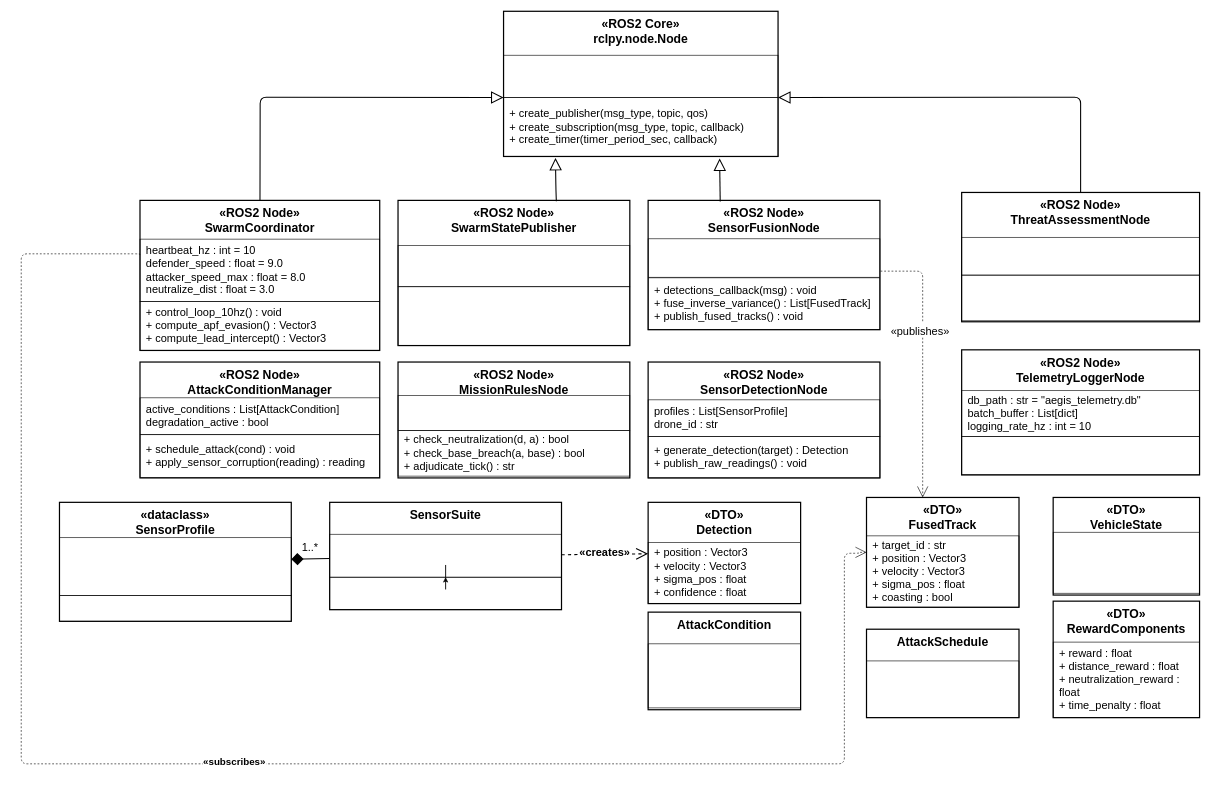
The diagram is 1211 pixels wide and 786 high, and some of its shapes have lost their labels. Each missing label, with the centre of its shape:
+ compute_threat_score(track) : float + update_defender_assignments() : void: (1080,297)
+ drone_id : str + position : Vector3 + velocity : Vector3 + heading : float: (1126,562)
+ in_range(distance : float) : bool: (175,608)
+ log_timestep(step_data) : void + flush_buffer_to_sqlite() : void: (1080,455)
+ name : str + max_range : float + fov_deg : float + sigma_pos : float: (175,566)
+ observe(target : Vector3) : List[Detection]: (445,593)
+ position_callback(msg, drone_id) : void + aggregate_and_publish() : void: (513,315)
+ scenario_name : str + conditions : List[AttackCondition]: (942,689)
+ type : str + intensity : float + start_time : float + duration : float: (724,675)
context : rclpy.Context handle : PyCapsule: (640,76)
mission_status : str base_h_a, base_h_d : Vector3: (513,412)
radar : SensorProfile eoir : SensorProfile ground_radar : SensorProfile: (445,555)
state_buffer : Dict[str, VehicleState] publish_rate_hz : int = 10: (513,266)
threat_scores : Dict[str, float] assignment_map : Dict[str, str]: (1080,256)
tracks : Dict[str, FusedTrack] fusion_rate_hz : int = 10: (764,257)
